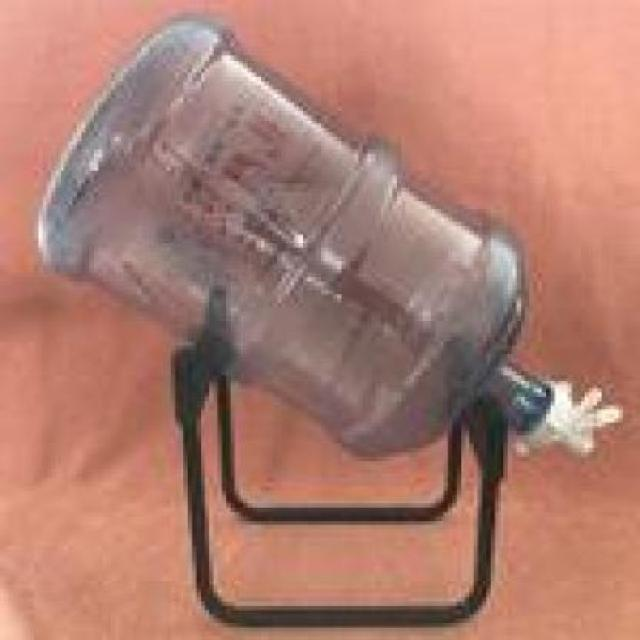coolerbottle: (31, 12, 556, 465)
